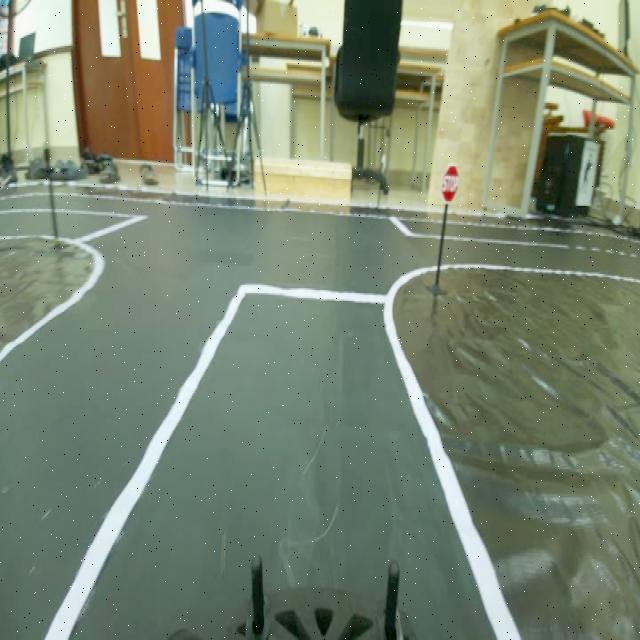stop: (438, 162, 466, 212)
